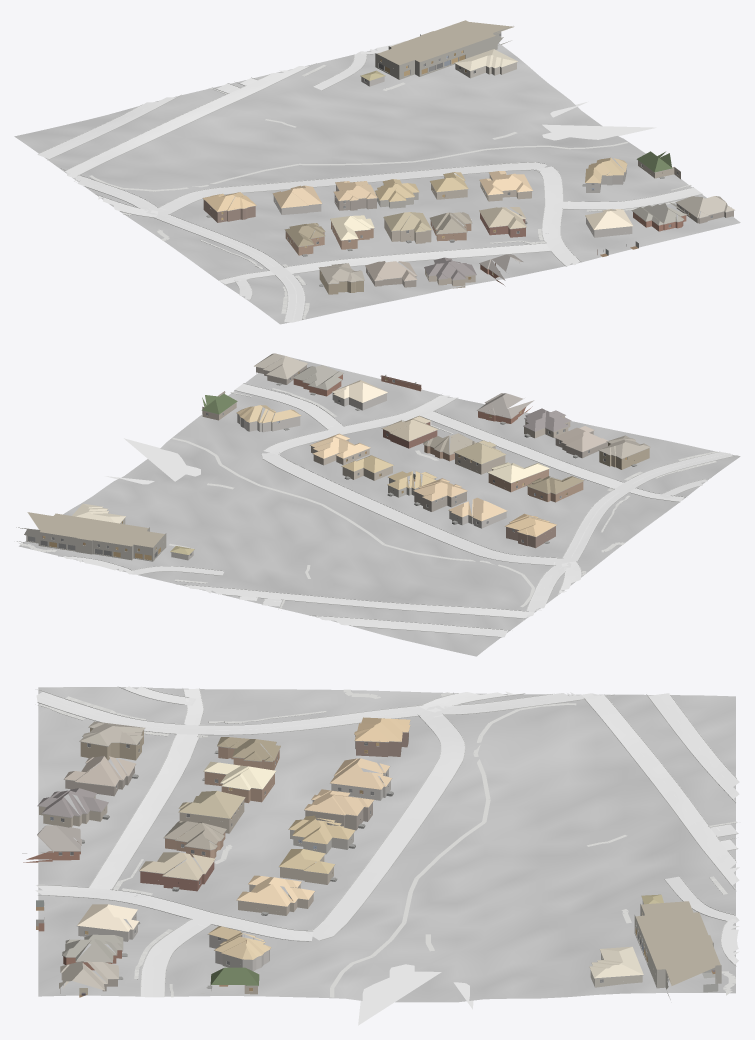
The picture shows the model from 3 angles, top to bottom: view 1: azimuth 30°, elevation 25°; view 2: azimuth 150°, elevation 25°; view 3: azimuth 270°, elevation 25°; orthographic projection. The views are drawn at different scales.
Visible parts, largest first — view 1: ground, roof, concrete, asphalt, wall, curb, roof_flat, walk, wall_stucco, wall_com, detail, water (+1 smaller); view 2: ground, roof, concrete, asphalt, wall, curb, roof_flat, walk, detail, wall_com, wall_stone, wall_stucco (+2 smaller); view 3: ground, roof, concrete, asphalt, wall, curb, roof_flat, walk, wall_stucco, detail, water, wall_stone (+4 smaller).
Boxes of the visible parts, x1,y1,x2,y2 form: ground: (14,43,740,324); roof: (203,49,734,283); concrete: (159,41,701,299); asphalt: (37,66,308,322); wall: (203,160,733,294); curb: (39,52,702,323); roof_flat: (377,20,514,65); walk: (89,65,690,319); wall_stucco: (375,62,531,288); wall_com: (375,26,511,79); detail: (203,36,734,286); water: (542,101,656,140); ground: (19,356,740,656); roof: (72,353,650,554); concrete: (62,383,707,606); asphalt: (186,452,732,637); wall: (202,365,649,548); curb: (58,383,737,637); roof_flat: (27,512,164,547); walk: (18,388,716,608); detail: (27,363,650,560); wall_com: (16,527,166,561); wall_stone: (171,393,506,560); wall_stucco: (120,416,570,524); ground: (38,687,735,1002); roof: (37,717,663,990); concrete: (35,686,739,997); asphalt: (36,691,739,885); wall: (23,728,408,994); curb: (37,686,738,996); roof_flat: (635,901,720,985); walk: (39,689,736,997); wall_stucco: (39,796,642,987); detail: (22,727,718,993); water: (358,964,473,1025); wall_stone: (78,769,643,971).
Bounding box in the file's own units: 273 × 15.79 × 261.
